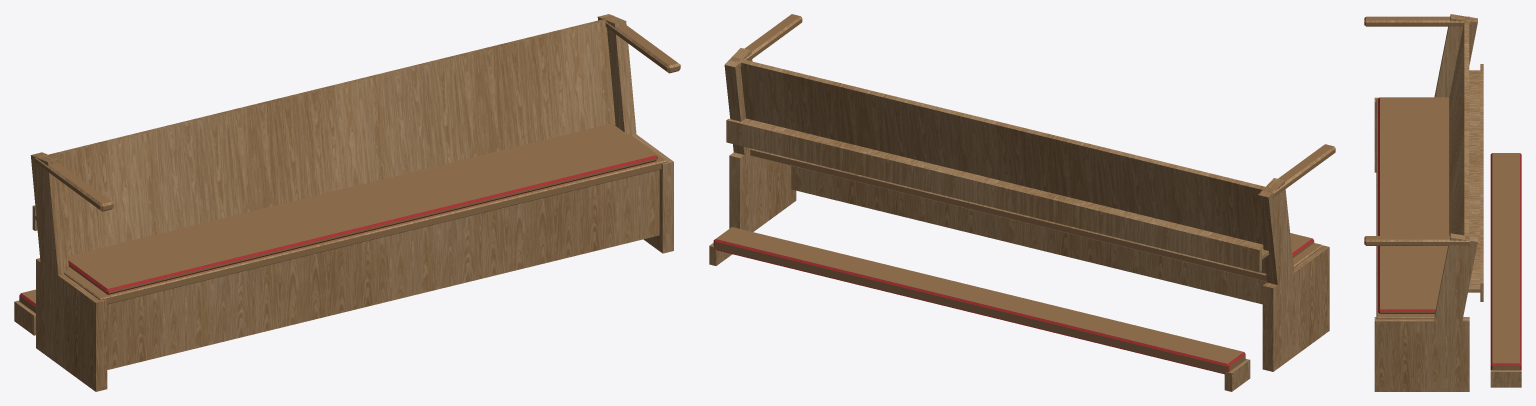
Rendered from pew.glb.
3 renders of one model, left to right at view 1: azimuth 30°, elevation 25°; view 2: azimuth 150°, elevation 25°; view 3: azimuth 270°, elevation 25°, orthographic. The views are drawn at different scales.
Parts seen in each view (by area): view 1: pew; view 2: pew; view 3: pew.
Part boxes in pixels (x1,y1,x2,y2): pew: (14,14,680,391); pew: (709,14,1335,391); pew: (1364,14,1521,391).
Bounding box in the file's own units: 3.07 × 0.9847 × 0.91.
2 materials, 2 textured.
